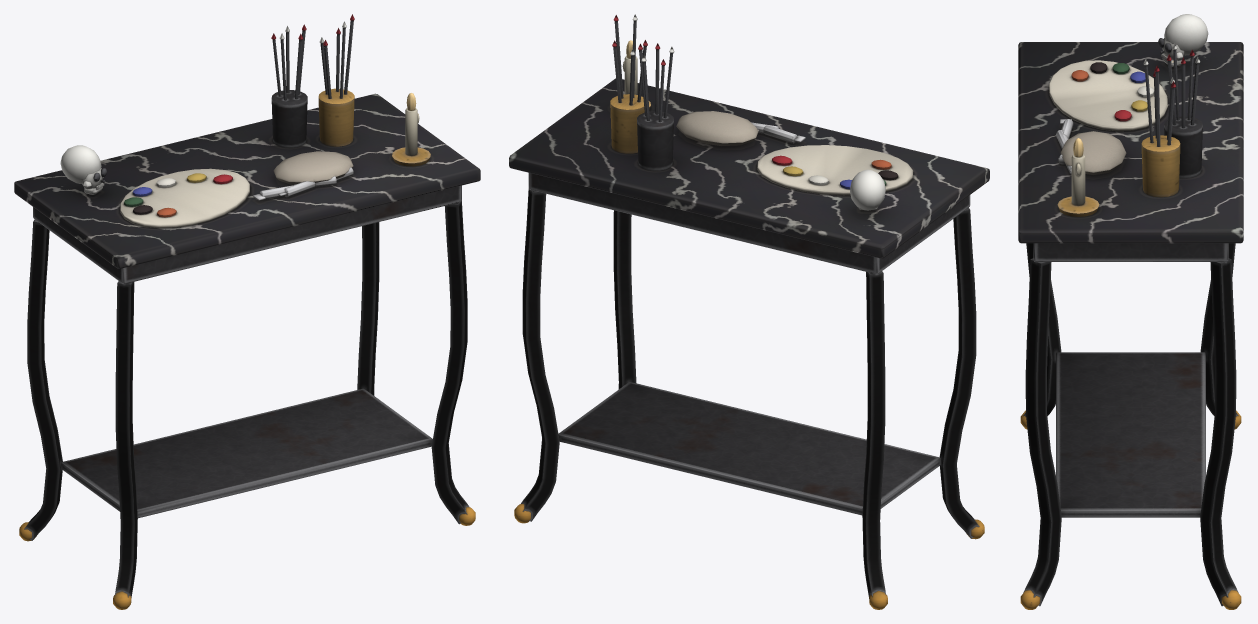
The model's file is PainterTable.fbx.
The picture shows the model from 3 angles, left to right: view 1: azimuth 30°, elevation 25°; view 2: azimuth 150°, elevation 25°; view 3: azimuth 270°, elevation 25°; orthographic projection. The views are drawn at different scales.
Parts seen in each view (by area): view 1: PainterTable_Main; view 2: PainterTable_Main; view 3: PainterTable_Main.
Boxes of the visible parts, bbox=[...] form: PainterTable_Main: bbox=[14, 14, 480, 609]; PainterTable_Main: bbox=[509, 14, 989, 609]; PainterTable_Main: bbox=[1018, 14, 1243, 609].
Bounding box in the file's own units: 300 × 379 × 150.
